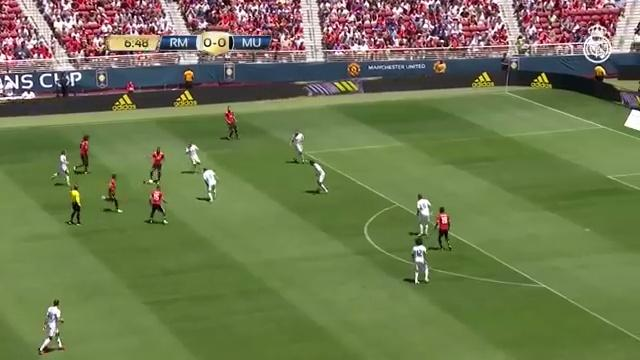football: (144, 177, 156, 185)
player: (38, 299, 64, 354), (411, 238, 428, 283), (147, 185, 167, 223), (102, 174, 122, 212), (435, 207, 451, 250), (51, 150, 69, 185), (416, 194, 431, 235), (147, 147, 164, 183), (310, 160, 327, 193), (74, 135, 88, 173), (203, 168, 217, 201), (185, 143, 200, 172), (290, 131, 304, 162), (225, 106, 238, 139)
referee: (68, 184, 81, 224)
